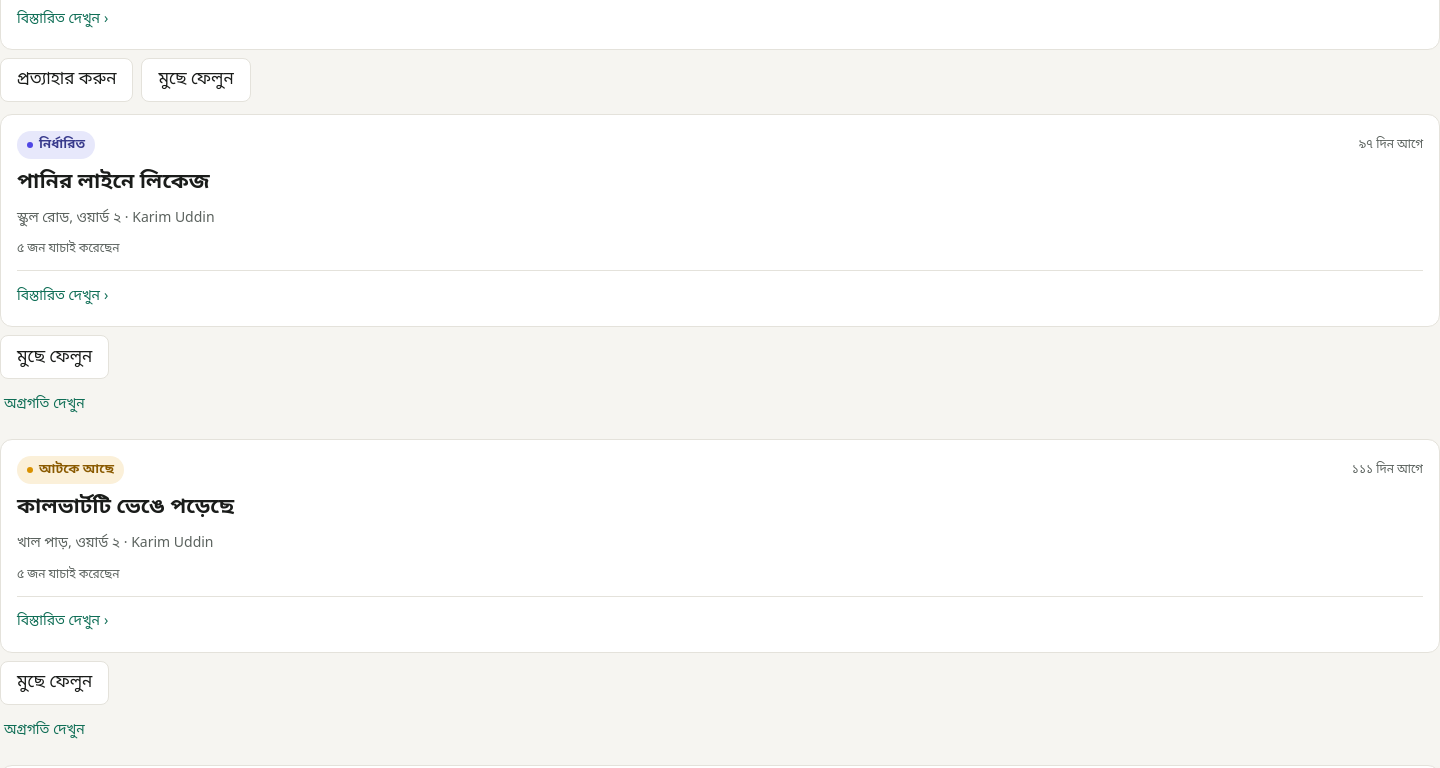
MyReports › expands an assigned-but-unplanned case to a calm "no plan yet", not an error
(page scrolled)
Expected: the heading "পানির লাইনে লিকেজ" is shown, [17,169,210,197]
Step 1. Click the button "অগ্রগতি দেখুন" below "স্কুল রোড, ওয়ার্ড ২" → click(44, 406), box [0,384,89,428]
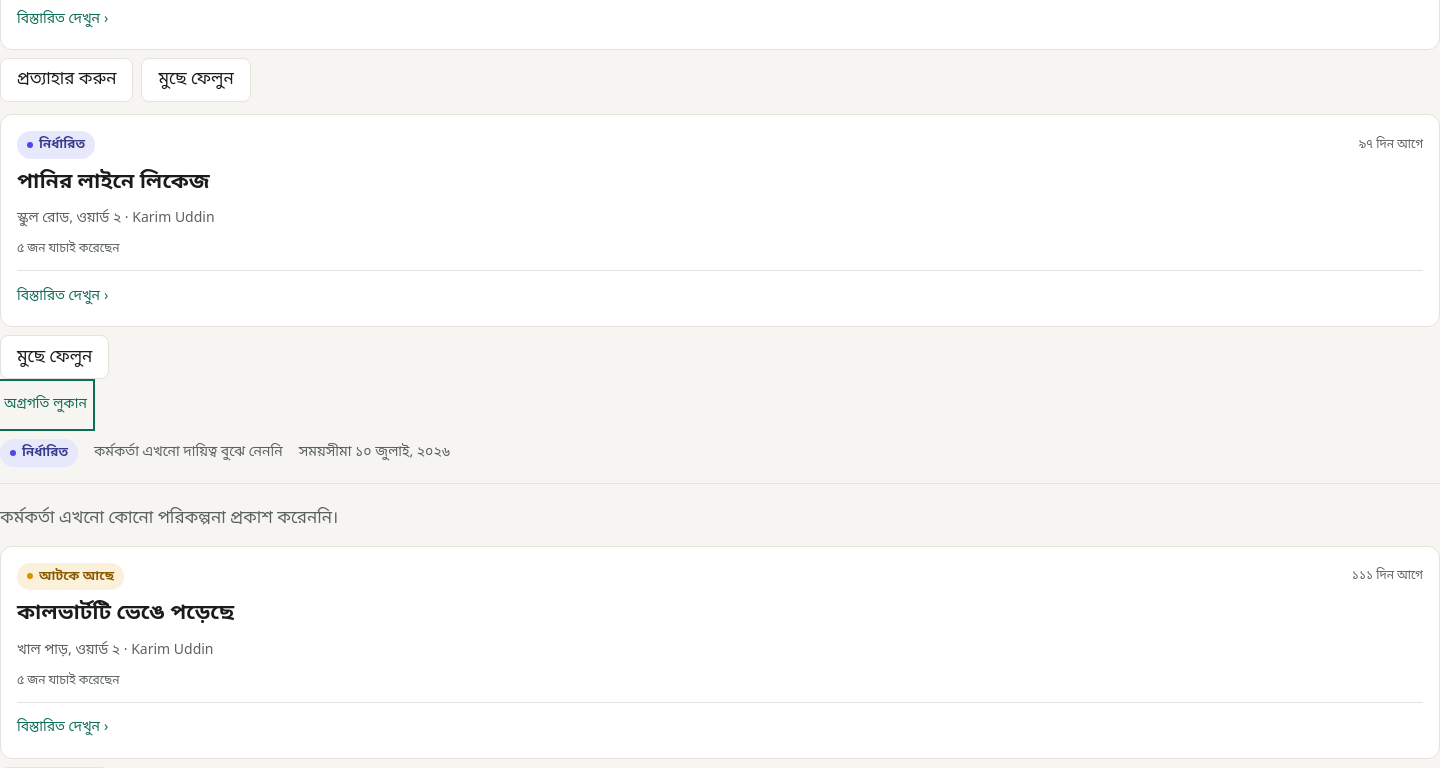
Expected: the text "কর্মকর্তা এখনো কোনো পরিকল্পনা প্রকাশ করেননি।" is shown, [0,507,338,530]
Expected: the text "কর্মকর্তা এখনো দায়িত্ব বুঝে নেননি" is shown, [94,442,283,464]
